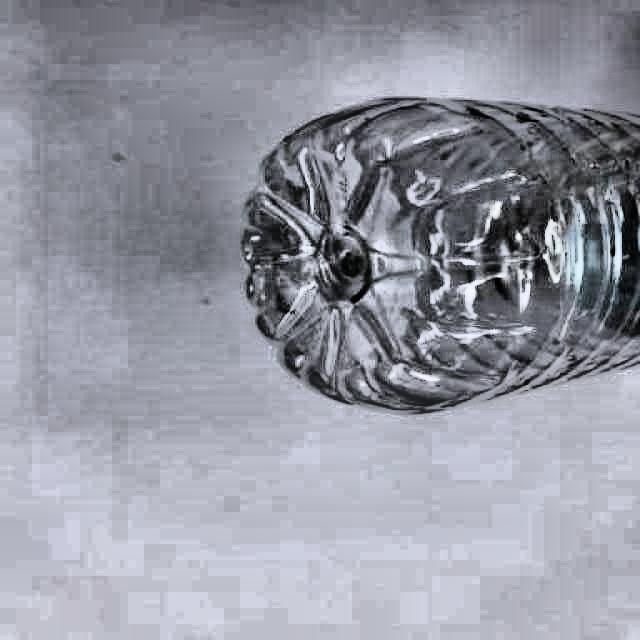plastic: (242, 99, 640, 412)
